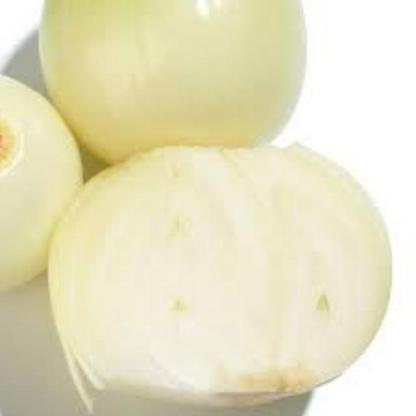onion: (44, 140, 390, 406), (27, 0, 312, 163), (0, 67, 86, 294)
